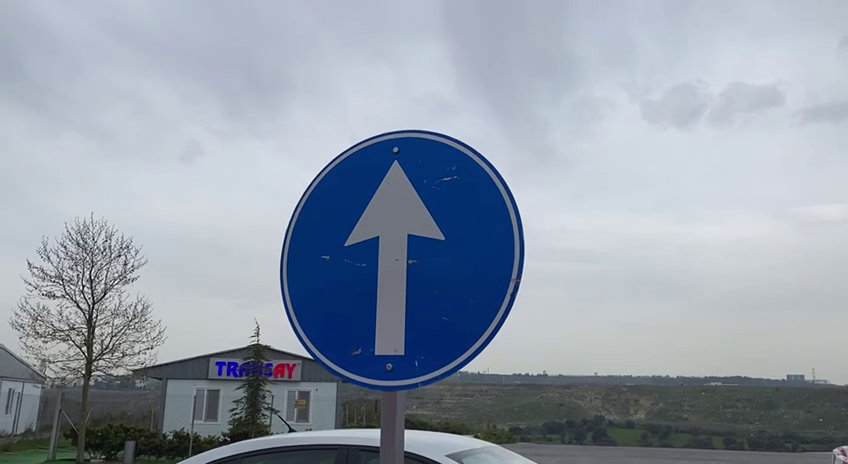forward: (272, 124, 537, 393)
